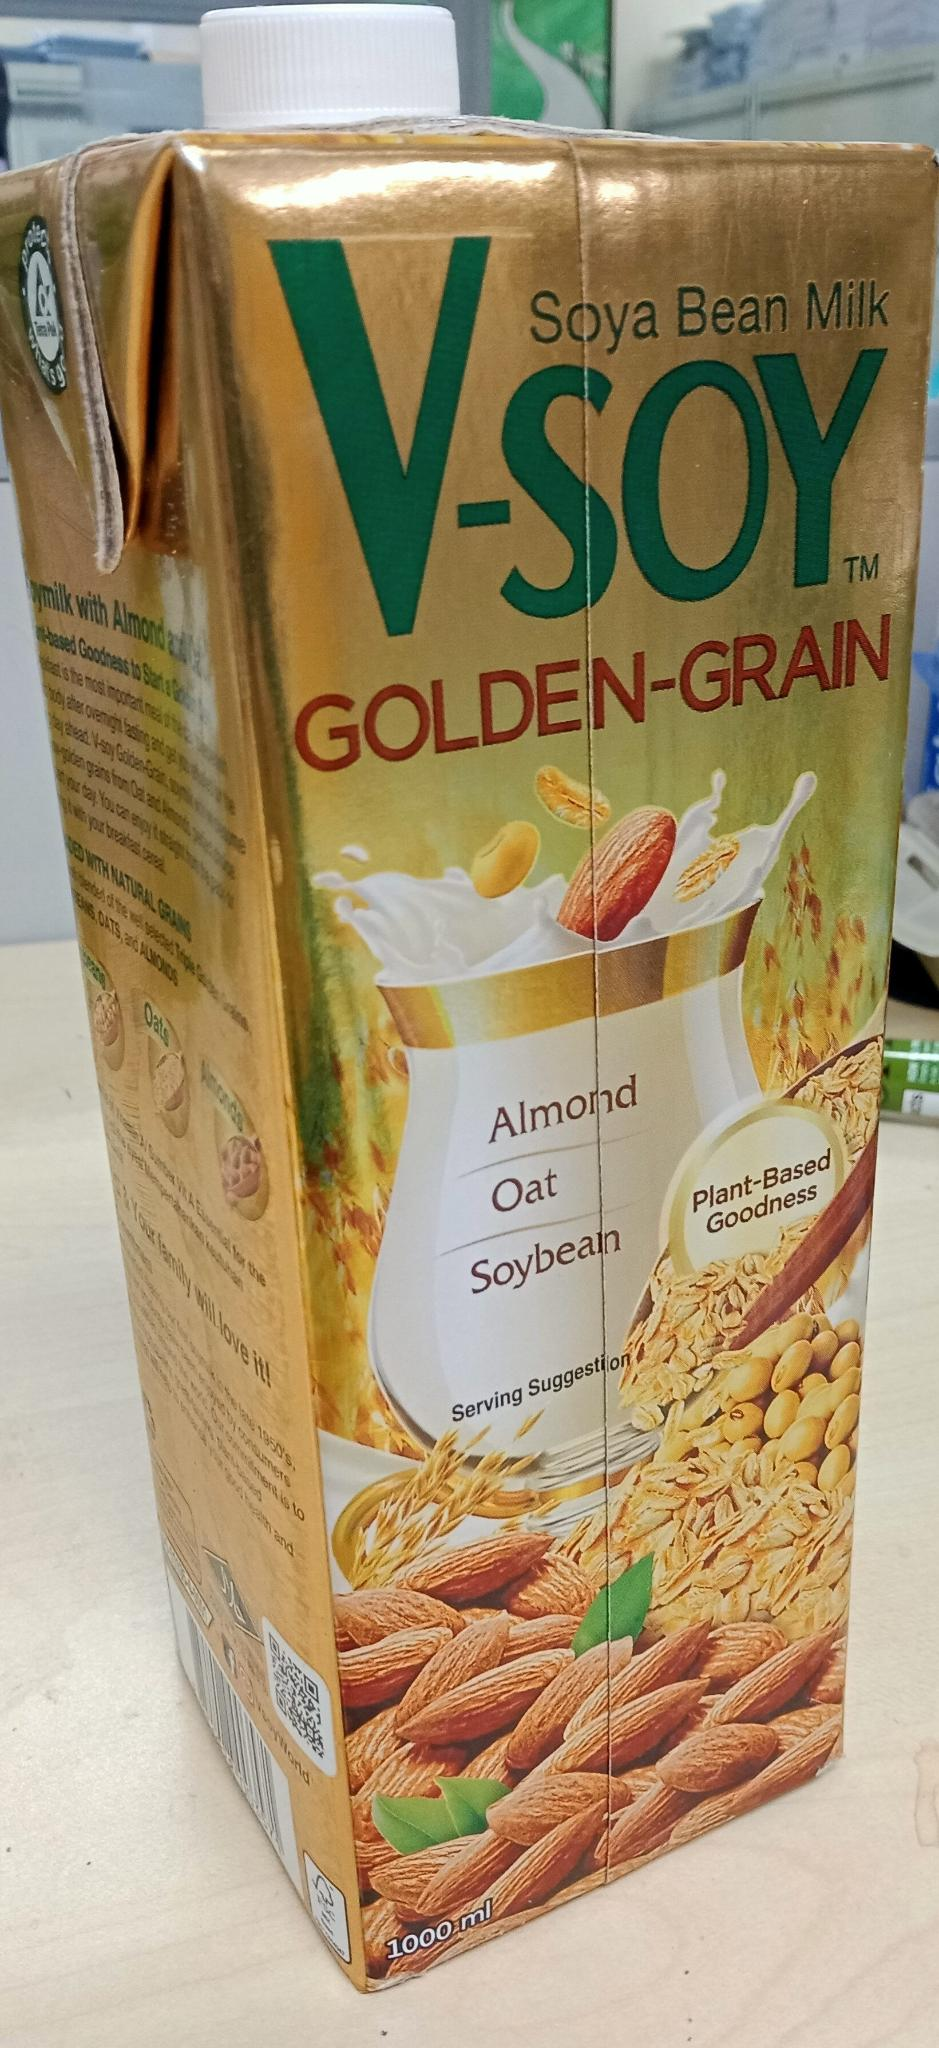cardboard: (0, 7, 938, 1985)
